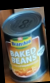beans: (2, 10, 48, 81)
